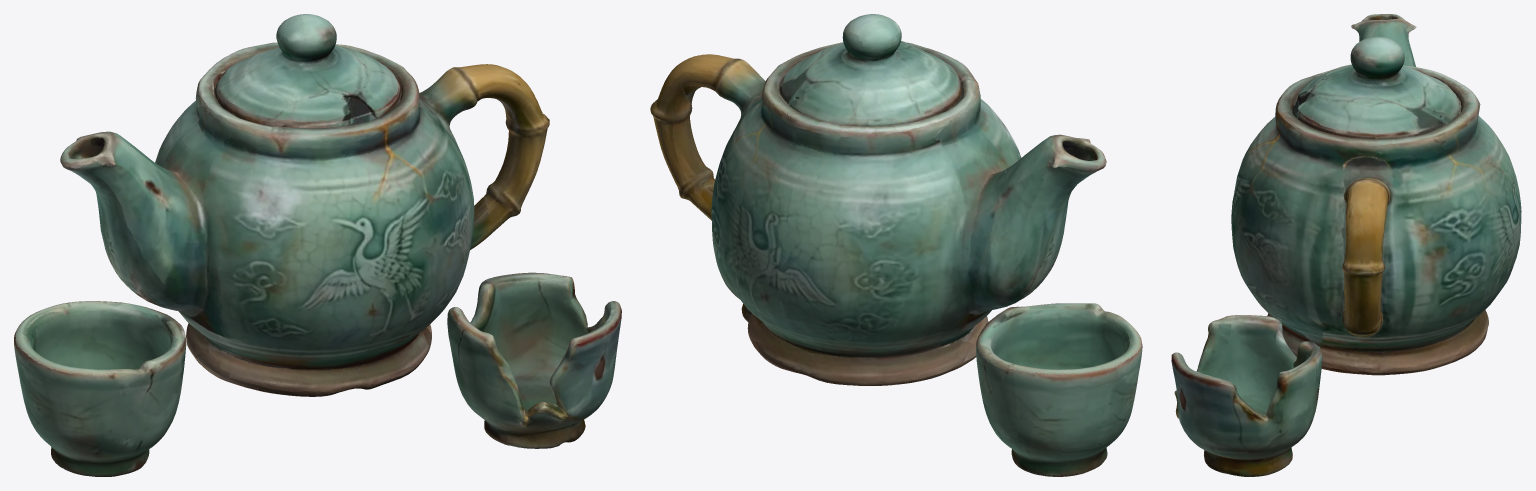
The model's file is teapot-broken.glb.
The picture shows the model from 3 angles, left to right: view 1: azimuth 30°, elevation 25°; view 2: azimuth 150°, elevation 25°; view 3: azimuth 270°, elevation 25°; orthographic projection. The views are drawn at different scales.
Parts seen in each view (by area): view 1: geometry_0; view 2: geometry_0; view 3: geometry_0.
Part boxes in pixels (x1,y1,x2,y2): geometry_0: (14, 14, 621, 476); geometry_0: (650, 14, 1142, 476); geometry_0: (1171, 14, 1521, 476).
Bounding box in the file's own units: 0.18 × 0.1358 × 0.1221.
Materials: 1 (1 with a texture image).
